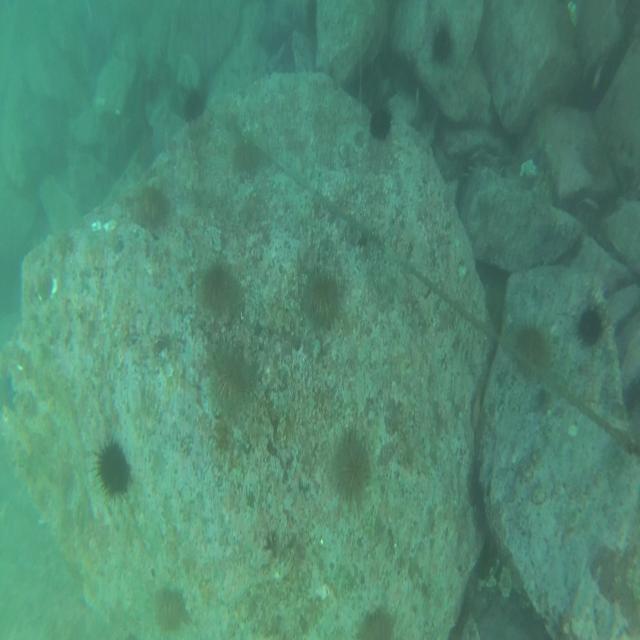echinus: (334, 431, 370, 503), (210, 353, 248, 417), (94, 438, 130, 497), (308, 266, 341, 328), (200, 263, 239, 314), (516, 325, 548, 376), (138, 181, 170, 225), (150, 594, 185, 630), (578, 304, 605, 348), (362, 609, 396, 640), (371, 101, 394, 146), (434, 28, 455, 67), (182, 89, 204, 118)
